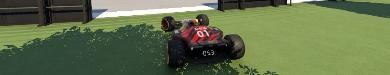Car: (160, 13, 245, 67)
grass: (0, 0, 389, 73)
obstacles-Borders: (0, 0, 92, 25), (216, 0, 290, 10)
